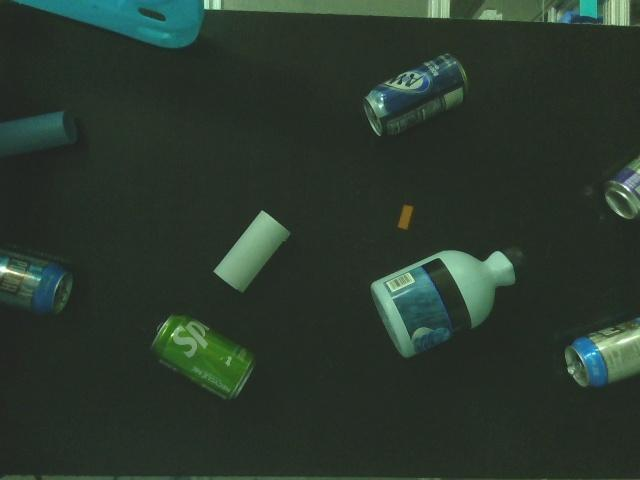cardboard: (210, 207, 292, 297), (0, 108, 93, 162)
metal: (144, 308, 267, 408), (356, 45, 476, 143), (0, 244, 83, 326), (558, 317, 640, 397), (602, 151, 640, 225)
plastic: (362, 235, 532, 369), (395, 201, 417, 232)
